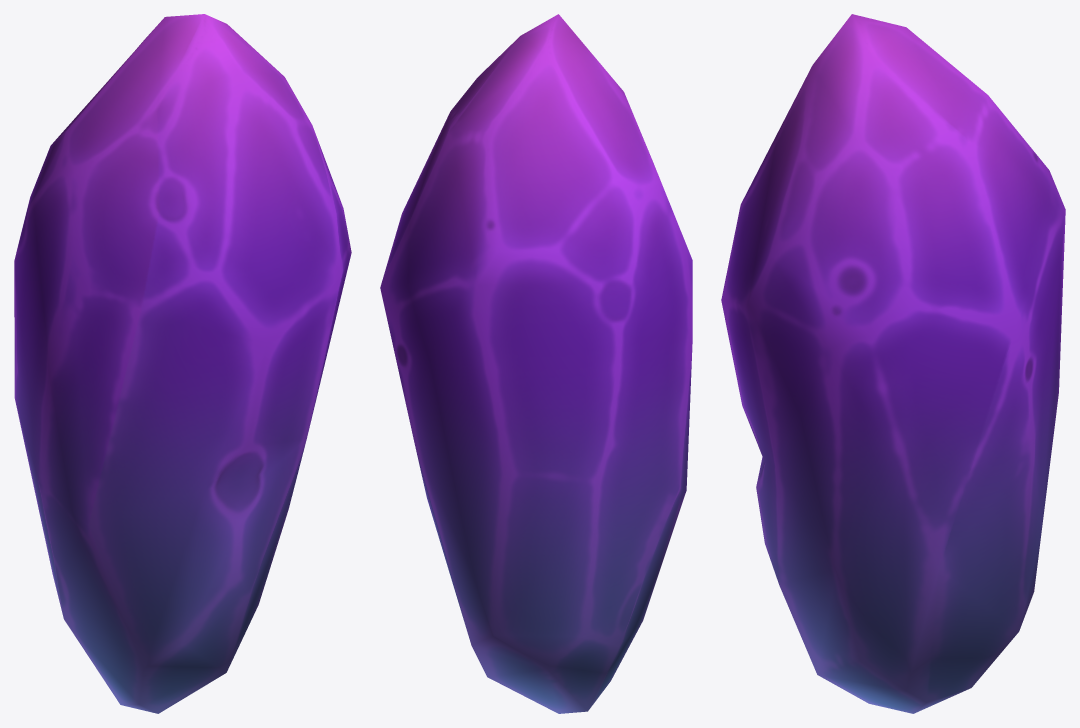
File: Cristal_1.fbx
3 views of the same model, side by side, from view 1: azimuth 30°, elevation 25°; view 2: azimuth 150°, elevation 25°; view 3: azimuth 270°, elevation 25° (orthographic). The views are drawn at different scales.
Parts seen in each view (by area): view 1: LP.004; view 2: LP.004; view 3: LP.004.
Part boxes in pixels (box(x1,y1,x2,y2)): LP.004: box(14, 14, 351, 713); LP.004: box(380, 14, 692, 713); LP.004: box(721, 14, 1065, 713).
Size of the model in its own units: 162 by 377 by 165.
